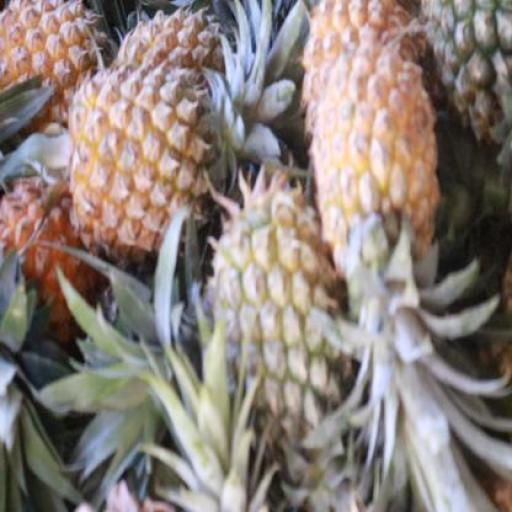------------------------------: (202, 190, 346, 440)
Pineapple - v8 v1: (322, 55, 434, 299), (68, 72, 206, 253)
